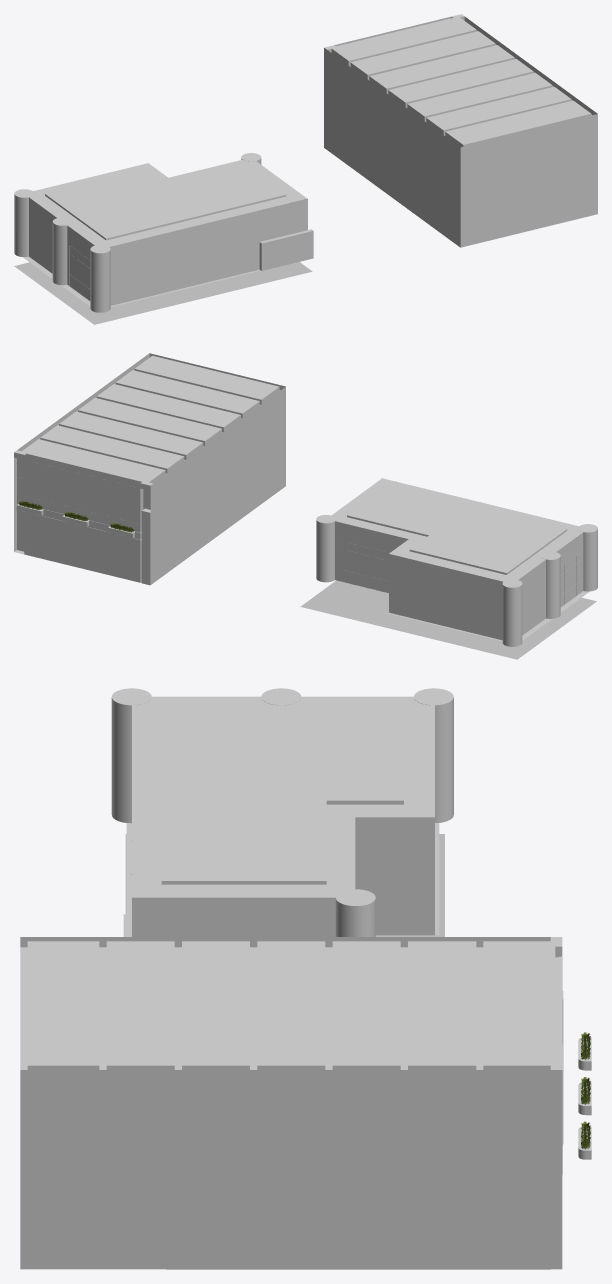
Rendered from cau01b.fbx.
3 renders of one model, top to bottom at view 1: azimuth 30°, elevation 25°; view 2: azimuth 150°, elevation 25°; view 3: azimuth 270°, elevation 25°, orthographic. The views are drawn at different scales.
Parts seen in each view (by area): view 1: Object2229, Box5759, Object2496, Object2231, Box5941, Object2228, Plane18534, Box5871, Cylinder4379, Cylinder4380, Cylinder4381, Object2497 (+2 smaller); view 2: Object2229, Box5759, Object2496, Object2230, Box5941, Plane18534, Object2228, Object2497, Cylinder4381, Cylinder4382, Cylinder4380, Cylinder4379 (+4 smaller); view 3: Object2229, Box5775, Box5759, Object2496, Box5941, Object2228, Cylinder4379, Cylinder4381, Cylinder4382, Object2498, Object2230, Plane18534.
Part boxes in pixels (x1=…): Object2229: x1=331, y1=16, x2=590, y2=144; Box5759: x1=324, y1=16, x2=597, y2=247; Object2496: x1=29, y1=159, x2=306, y2=246; Object2231: x1=460, y1=119, x2=597, y2=247; Box5941: x1=29, y1=197, x2=307, y2=305; Object2228: x1=324, y1=16, x2=597, y2=152; Plane18534: x1=14, y1=262, x2=312, y2=324; Box5871: x1=259, y1=229, x2=313, y2=270; Cylinder4379: x1=90, y1=245, x2=110, y2=312; Cylinder4380: x1=52, y1=217, x2=72, y2=285; Cylinder4381: x1=14, y1=189, x2=34, y2=256; Object2497: x1=69, y1=246, x2=90, y2=300; Object2229: x1=21, y1=355, x2=278, y2=482; Box5759: x1=14, y1=353, x2=285, y2=584; Object2496: x1=331, y1=478, x2=582, y2=581; Object2230: x1=14, y1=450, x2=153, y2=584; Box5941: x1=335, y1=478, x2=583, y2=640; Plane18534: x1=300, y1=580, x2=596, y2=659; Object2228: x1=14, y1=353, x2=285, y2=490; Object2497: x1=342, y1=542, x2=582, y2=606; Cylinder4381: x1=502, y1=579, x2=522, y2=646; Cylinder4382: x1=316, y1=515, x2=335, y2=582; Cylinder4380: x1=540, y1=551, x2=560, y2=618; Cylinder4379: x1=578, y1=524, x2=597, y2=591; Object2229: x1=27, y1=941, x2=555, y2=1065; Box5775: x1=166, y1=1124, x2=550, y2=1269; Box5759: x1=20, y1=937, x2=562, y2=1269; Object2496: x1=132, y1=696, x2=434, y2=897; Box5941: x1=132, y1=817, x2=434, y2=936; Object2228: x1=20, y1=937, x2=561, y2=1080; Cylinder4379: x1=111, y1=688, x2=151, y2=823; Cylinder4381: x1=414, y1=688, x2=453, y2=822; Cylinder4382: x1=335, y1=889, x2=375, y2=936; Object2498: x1=126, y1=823, x2=439, y2=935; Object2230: x1=550, y1=937, x2=562, y2=1269; Plane18534: x1=125, y1=834, x2=444, y2=936.
Bounding box in the file's own units: 219681 × 50015 × 114335.
